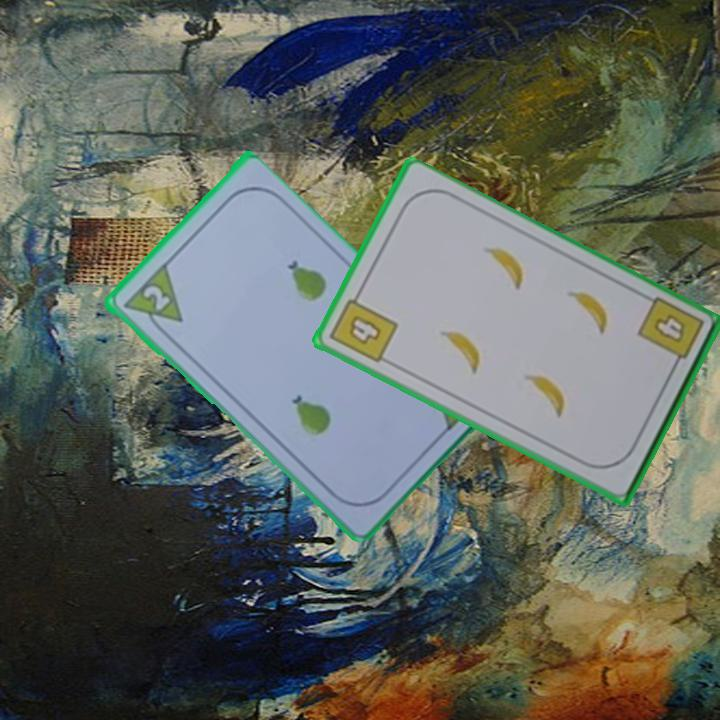2p: (138, 281, 173, 314)
4b: (326, 287, 401, 366), (636, 293, 707, 374)
